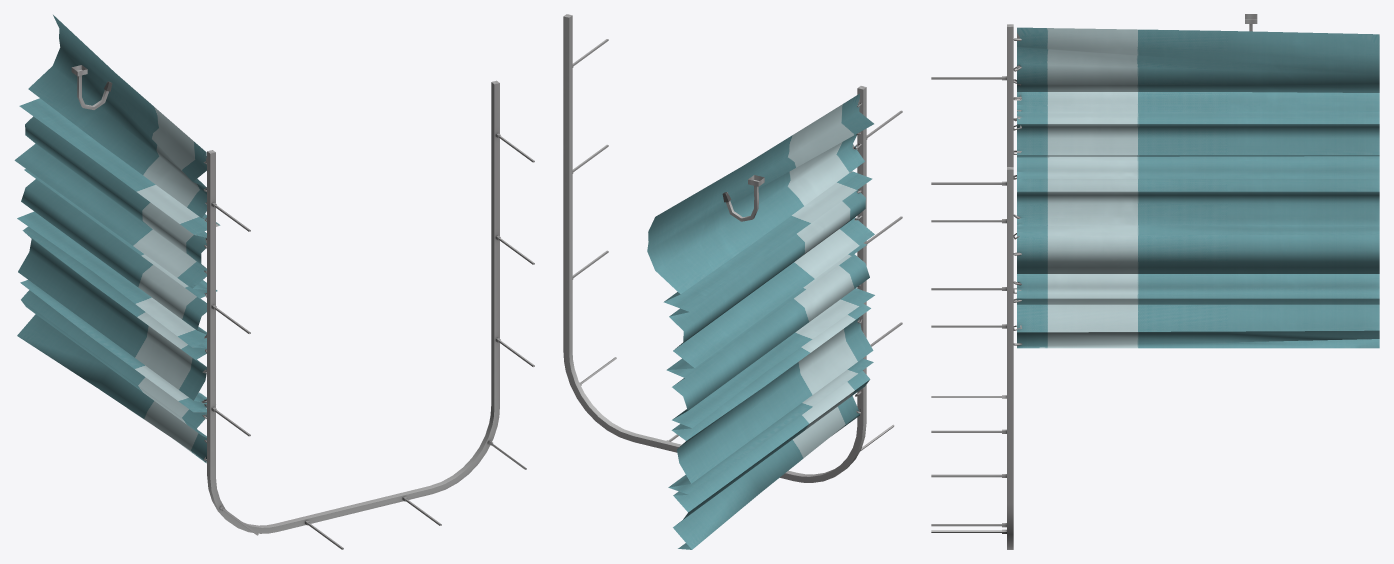
The model's file is aws_robomaker_hospital_curtain_half_open_01_collision.dae.
The picture shows the model from 3 angles, left to right: view 1: azimuth 30°, elevation 25°; view 2: azimuth 150°, elevation 25°; view 3: azimuth 270°, elevation 25°; orthographic projection. The views are drawn at different scales.
Visible parts, largest first — view 1: aws_robomaker_hospital_curtain_half_open_01_low, aws_robomaker_hospital_curtainrail_01_low; view 2: aws_robomaker_hospital_curtain_half_open_01_low, aws_robomaker_hospital_curtainrail_01_low; view 3: aws_robomaker_hospital_curtain_half_open_01_low, aws_robomaker_hospital_curtainrail_01_low.
Part boxes in pixels (left/top/right/bottom): aws_robomaker_hospital_curtain_half_open_01_low: left=14, top=15, right=220, bottom=463; aws_robomaker_hospital_curtainrail_01_low: left=71, top=65, right=534, bottom=549; aws_robomaker_hospital_curtain_half_open_01_low: left=647, top=93, right=874, bottom=549; aws_robomaker_hospital_curtainrail_01_low: left=563, top=14, right=902, bottom=482; aws_robomaker_hospital_curtain_half_open_01_low: left=1013, top=27, right=1379, bottom=348; aws_robomaker_hospital_curtainrail_01_low: left=931, top=14, right=1257, bottom=549.
Size of the model in its own units: 238 by 293 by 292.
2 materials, 2 textured.
